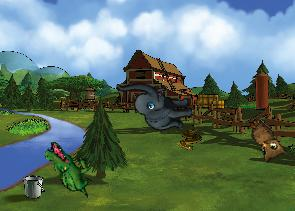crocodile: (34, 139, 103, 199)
elephant: (116, 70, 195, 138)
owl: (237, 116, 290, 168)
